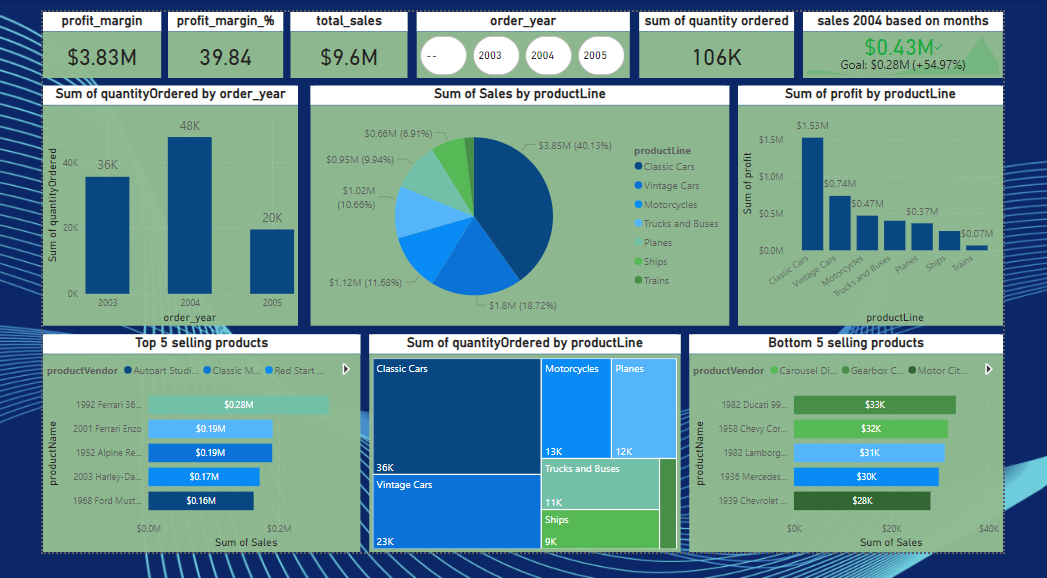

This screenshot's page, from the dashboard's own definition file:
{"tool":"powerbi","page":{"name":"Page 1","canvas":[1280,720],"ordinal":0},"visuals":[{"type":"pieChart","fields":{"Category":["products.productLine"],"Y":["Sum(order_details.Sales)"]},"box":[356.7,98.3,558.3,320],"z":0},{"type":"advancedSlicerVisual","fields":{"Values":["order.order_year"]},"box":[498.3,0,283.7,88.2],"z":1000},{"type":"card","title":"sum of quantity ordered","fields":{"Values":["Sum(order_details.quantityOrdered)"]},"box":[795.1,0,206.2,88.2],"z":2000},{"type":"barChart","title":"Top 5 selling products","fields":{"Category":["products.productName"],"Y":["Sum(order_details.Sales)"],"Series":["products.productVendor"]},"box":[0,430,423.3,290],"z":3000},{"type":"treemap","fields":{"Group":["productlines.productLine"],"Values":["Sum(order_details.quantityOrdered)"]},"box":[435,430,415,290],"z":4000},{"type":"columnChart","fields":{"Category":["order.order_year"],"Y":["Sum(order_details.quantityOrdered)"]},"box":[0,98.3,340,320],"z":5000},{"type":"card","title":"profit_margin","fields":{"Values":["order_details.total_profit"]},"box":[0,0,157.3,88.2],"z":6000},{"type":"card","title":"profit_margin_%","fields":{"Values":["order_details.profit_margin_%"]},"box":[166.9,0,153.8,88.2],"z":7000},{"type":"card","title":"total_sales","fields":{"Values":["Sum(order_details.Sales)"]},"box":[330.2,0,156.2,88.2],"z":8000},{"type":"barChart","title":"Bottom 5 selling products","fields":{"Category":["products.productName"],"Y":["Sum(order_details.Sales)"],"Series":["products.productVendor"]},"box":[861.7,430,418.3,290],"z":9000},{"type":"kpi","title":"sales 2004 based on months ","fields":{"TrendLine":["order.Month Name"],"Indicator":["order.sales_2004"],"Goal":["order.sales_2003"]},"box":[1013.3,0,266.7,88.3],"z":10000},{"type":"columnChart","fields":{"Y":["Sum(order_details.profit)"],"Category":["productlines.productLine"]},"box":[926.7,98.3,353.3,320],"z":11000},{"type":"actionButton","box":[868.3,378.3,46.7,40],"z":12000}]}

Visuals, with their boxes in screenshot pixels (x1, y1, x2, y2), scaled from the page's 1280x720 canvas onto the 1047x578 screenshot:
pieChart - products.productLine x Sum(order_details.Sales): (left=292, top=79, right=748, bottom=336)
advancedSlicerVisual - order.order_year: (left=408, top=0, right=640, bottom=71)
"sum of quantity ordered" card: (left=650, top=0, right=819, bottom=71)
"Top 5 selling products" barChart: (left=0, top=345, right=346, bottom=577)
treemap - productlines.productLine x Sum(order_details.quantityOrdered): (left=356, top=345, right=695, bottom=577)
columnChart - order.order_year x Sum(order_details.quantityOrdered): (left=0, top=79, right=278, bottom=336)
"profit_margin" card: (left=0, top=0, right=129, bottom=71)
"profit_margin_%" card: (left=137, top=0, right=262, bottom=71)
"total_sales" card: (left=270, top=0, right=398, bottom=71)
"Bottom 5 selling products" barChart: (left=705, top=345, right=1046, bottom=577)
"sales 2004 based on months " kpi: (left=829, top=0, right=1046, bottom=71)
columnChart - Sum(order_details.profit) x productlines.productLine: (left=758, top=79, right=1046, bottom=336)
actionButton: (left=710, top=304, right=748, bottom=336)
